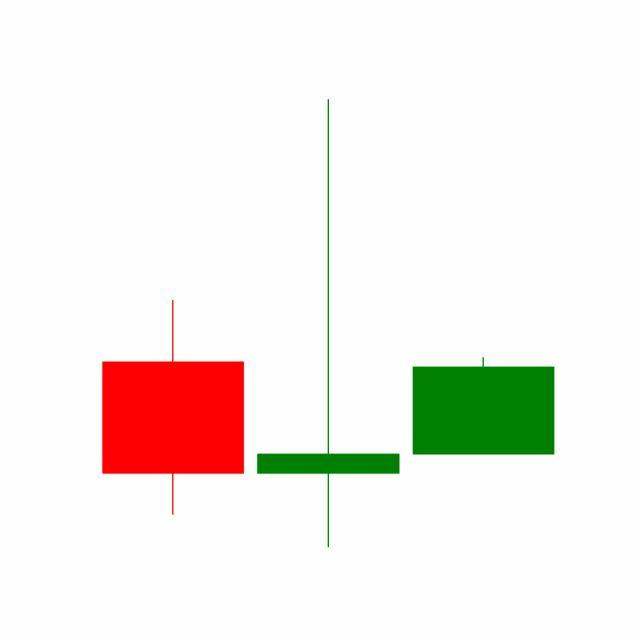Marubozu: (406, 356, 562, 456)
